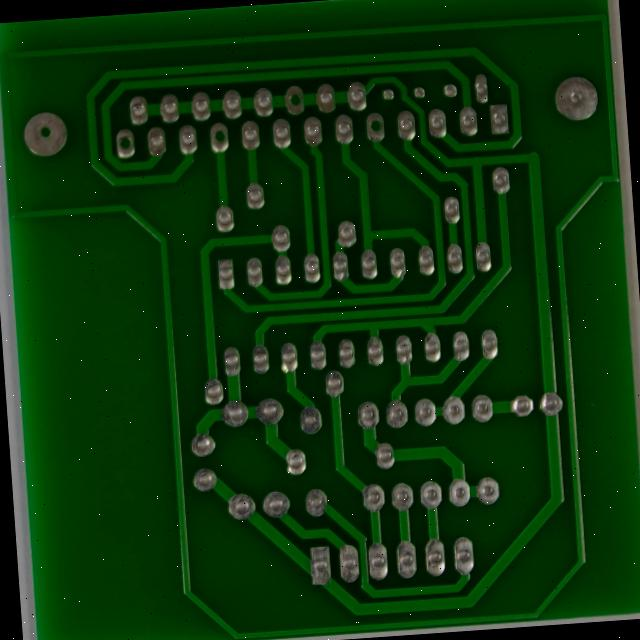missing_hole: (175, 90, 203, 120), (76, 94, 101, 126), (342, 77, 368, 106), (257, 49, 281, 76), (0, 83, 20, 113)
